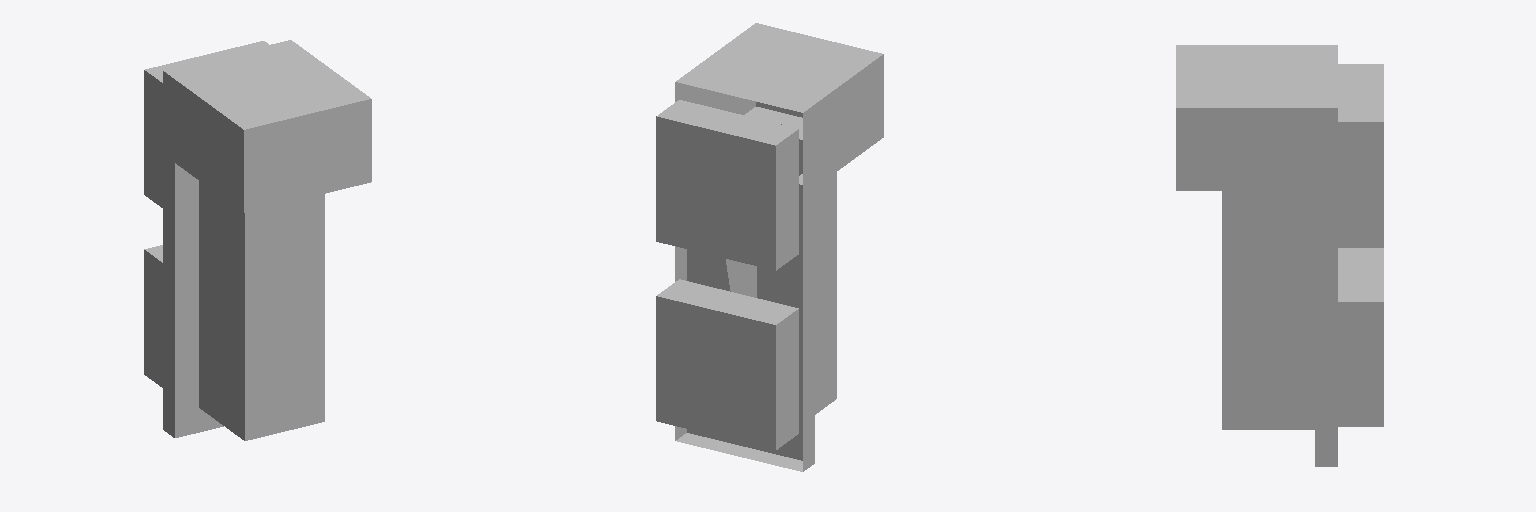
Rendered from engine.obj.
3 renders of one model, left to right at view 1: azimuth 30°, elevation 25°; view 2: azimuth 150°, elevation 25°; view 3: azimuth 270°, elevation 25°, orthographic.
Visible parts, largest first — view 1: 335089_2B364B_Cube, 6B7281_0B0B0D_Cube.001; view 2: 6B7281_0B0B0D_Cube.001, 335089_2B364B_Cube; view 3: 335089_2B364B_Cube, 6B7281_0B0B0D_Cube.001.
Boxes of the visible parts, box(x1,y1,x2,y2) form: 335089_2B364B_Cube: box(163, 40, 371, 440); 6B7281_0B0B0D_Cube.001: box(144, 41, 268, 387); 6B7281_0B0B0D_Cube.001: box(656, 100, 798, 449); 335089_2B364B_Cube: box(675, 23, 883, 471); 335089_2B364B_Cube: box(1176, 45, 1337, 466); 6B7281_0B0B0D_Cube.001: box(1338, 64, 1383, 426).
Size of the model in its own units: 3.2 by 8.6 by 4.5.